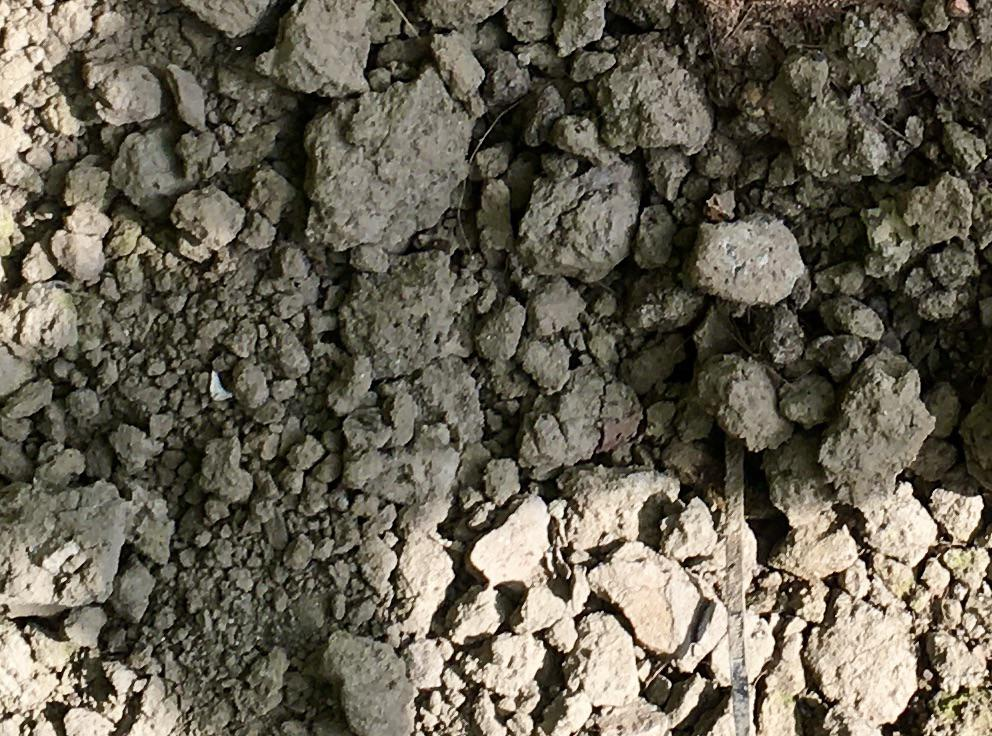block: (301, 70, 470, 263), (814, 344, 930, 505), (808, 586, 919, 736), (520, 159, 641, 289), (688, 208, 809, 309)
